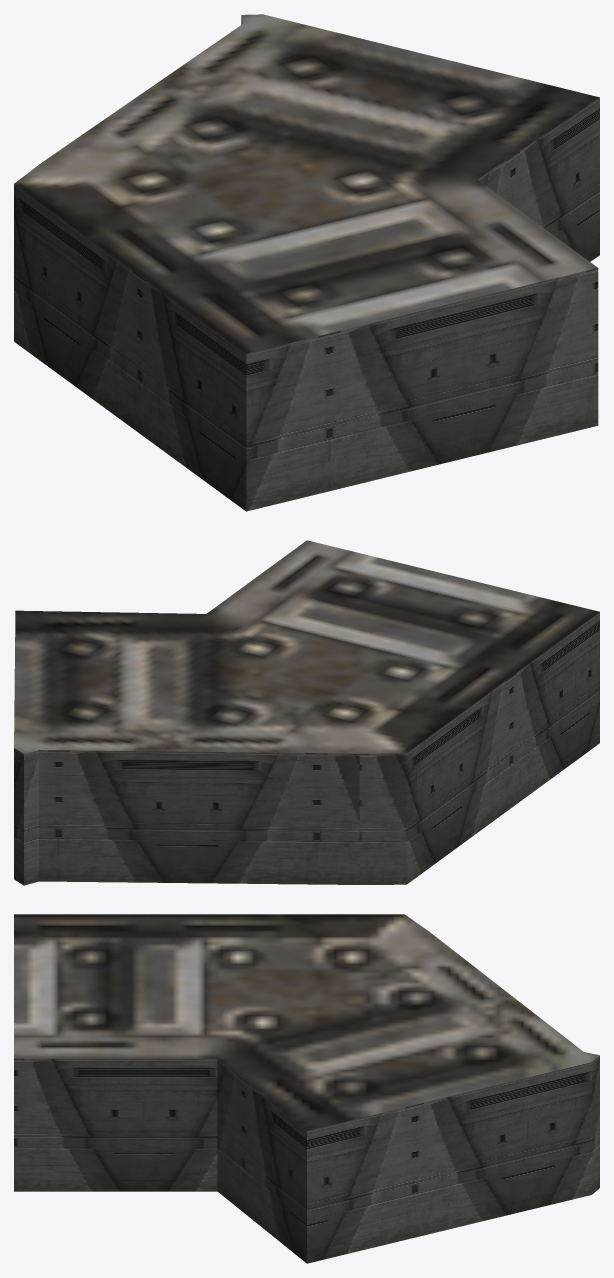
File: fortress_heavy_10.glb
3 renders of one model, top to bottom at view 1: azimuth 30°, elevation 25°; view 2: azimuth 150°, elevation 25°; view 3: azimuth 270°, elevation 25°, orthographic. The views are drawn at different scales.
Visible parts, largest first — view 1: buildings/saxarba/fortress_heavy/fortress_heavy_10; view 2: buildings/saxarba/fortress_heavy/fortress_heavy_10; view 3: buildings/saxarba/fortress_heavy/fortress_heavy_10.
Part boxes in pixels (x1,y1,x2,y2): buildings/saxarba/fortress_heavy/fortress_heavy_10: (14, 14, 599, 511); buildings/saxarba/fortress_heavy/fortress_heavy_10: (14, 540, 599, 885); buildings/saxarba/fortress_heavy/fortress_heavy_10: (14, 914, 599, 1263).
Bounding box in the file's own units: 63 × 18 × 72.
